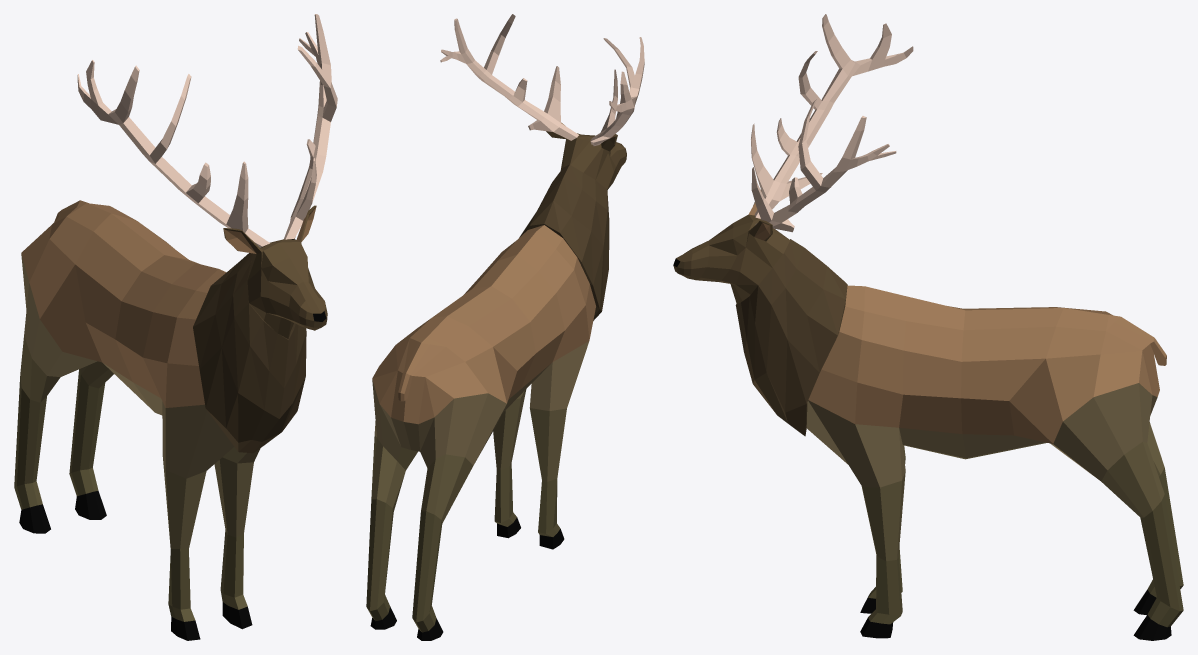
File: low_poly_deer_elk.glb
3 renders of one model, left to right at view 1: azimuth 30°, elevation 25°; view 2: azimuth 150°, elevation 25°; view 3: azimuth 270°, elevation 25°, orthographic. The views are drawn at different scales.
Visible parts, largest first — view 1: 09deerFinal; view 2: 09deerFinal; view 3: 09deerFinal.
Boxes of the visible parts, x1,y1,x2,y2 form: 09deerFinal: (14, 14, 337, 640); 09deerFinal: (366, 14, 644, 640); 09deerFinal: (673, 14, 1183, 640).
Size of the model in its own units: 1.04 by 2.72 by 2.24.
1 material, 1 textured.
